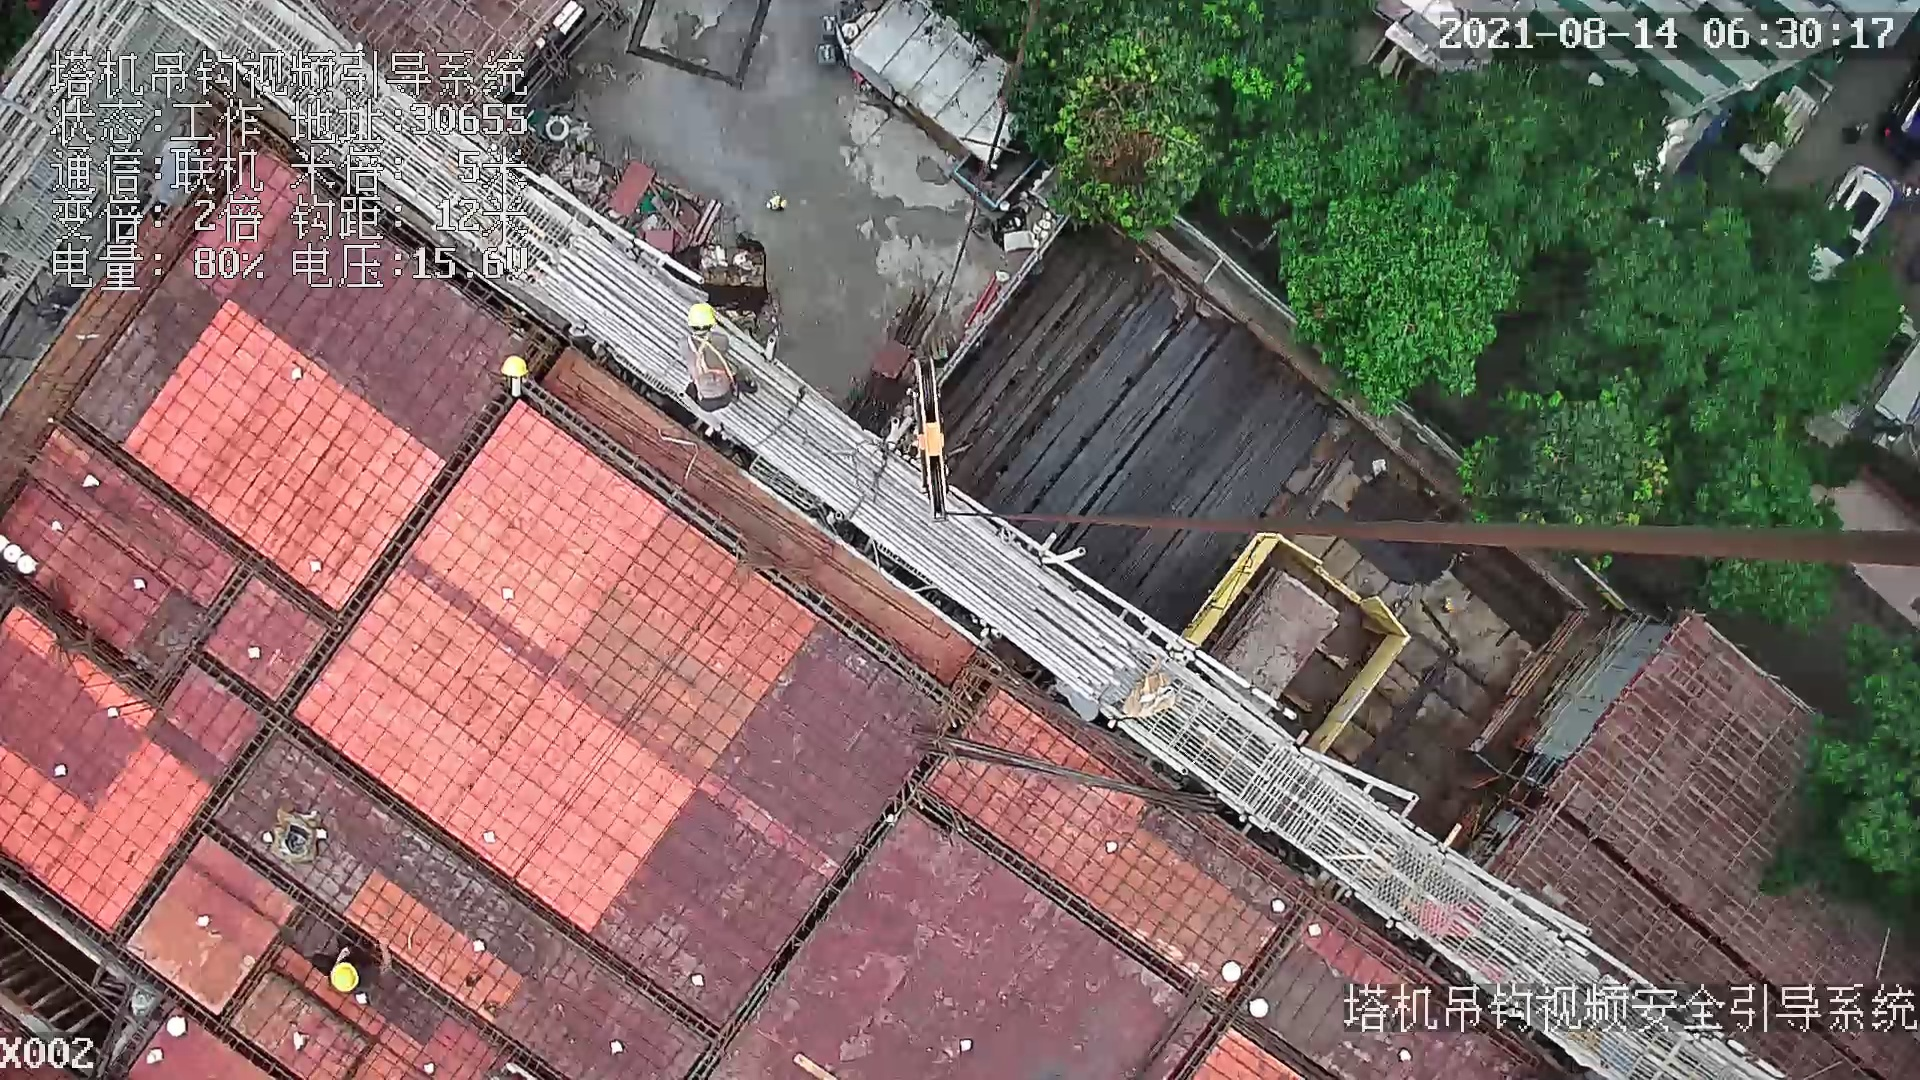helmet: (328, 961, 363, 994), (499, 353, 533, 378), (686, 304, 720, 329)
hook: (901, 356, 956, 522)
person: (681, 300, 768, 417), (315, 939, 394, 997)
rebar: (986, 271, 1335, 619)
